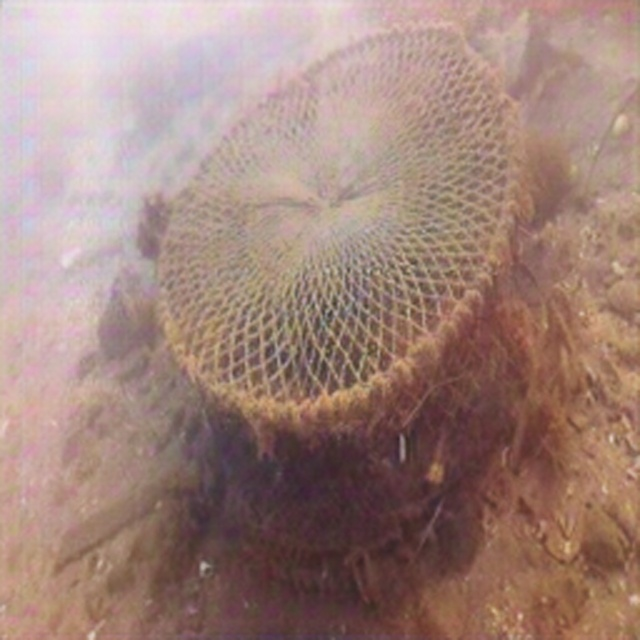mine: (154, 17, 522, 554)
